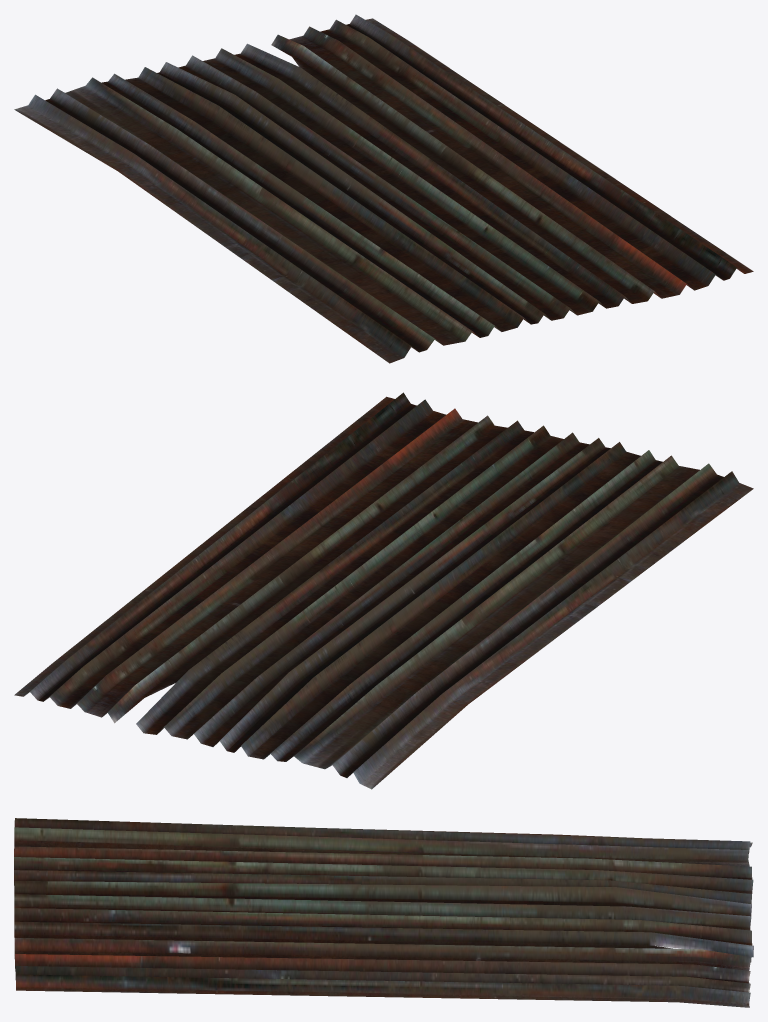
The model's file is Dark_LongSheet.FBX.
The picture shows the model from 3 angles, top to bottom: view 1: azimuth 30°, elevation 25°; view 2: azimuth 150°, elevation 25°; view 3: azimuth 270°, elevation 25°; orthographic projection. The views are drawn at different scales.
Visible parts, largest first — view 1: Dark_LongSheet; view 2: Dark_LongSheet; view 3: Dark_LongSheet.
Part boxes in pixels (box(x1,y1,x2,y2)): Dark_LongSheet: box(14, 14, 753, 363); Dark_LongSheet: box(14, 392, 753, 789); Dark_LongSheet: box(14, 818, 753, 1007).
Bounding box in the file's own units: 167 × 16.09 × 300.
